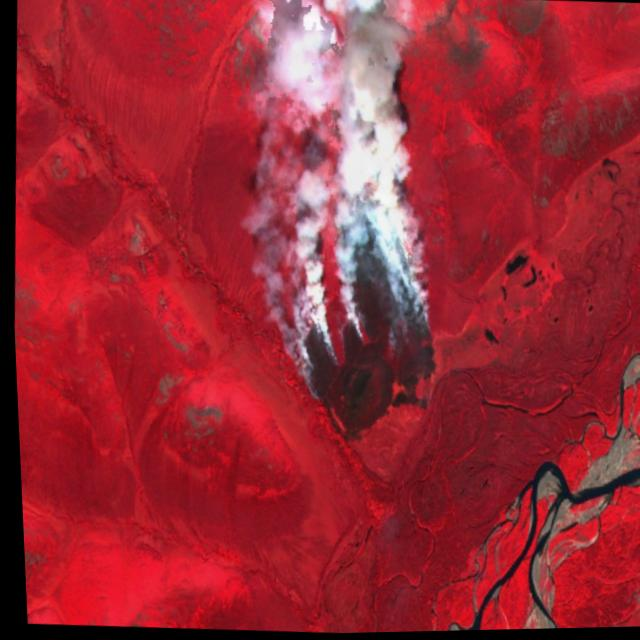fire: (261, 133, 451, 460)
